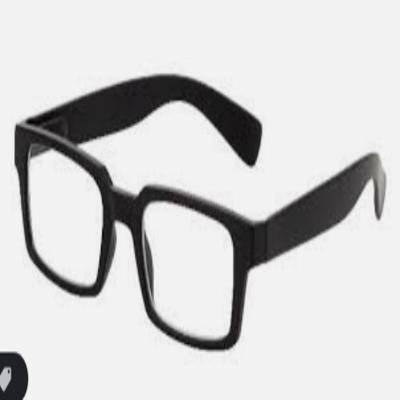glasses: (8, 69, 396, 355)
